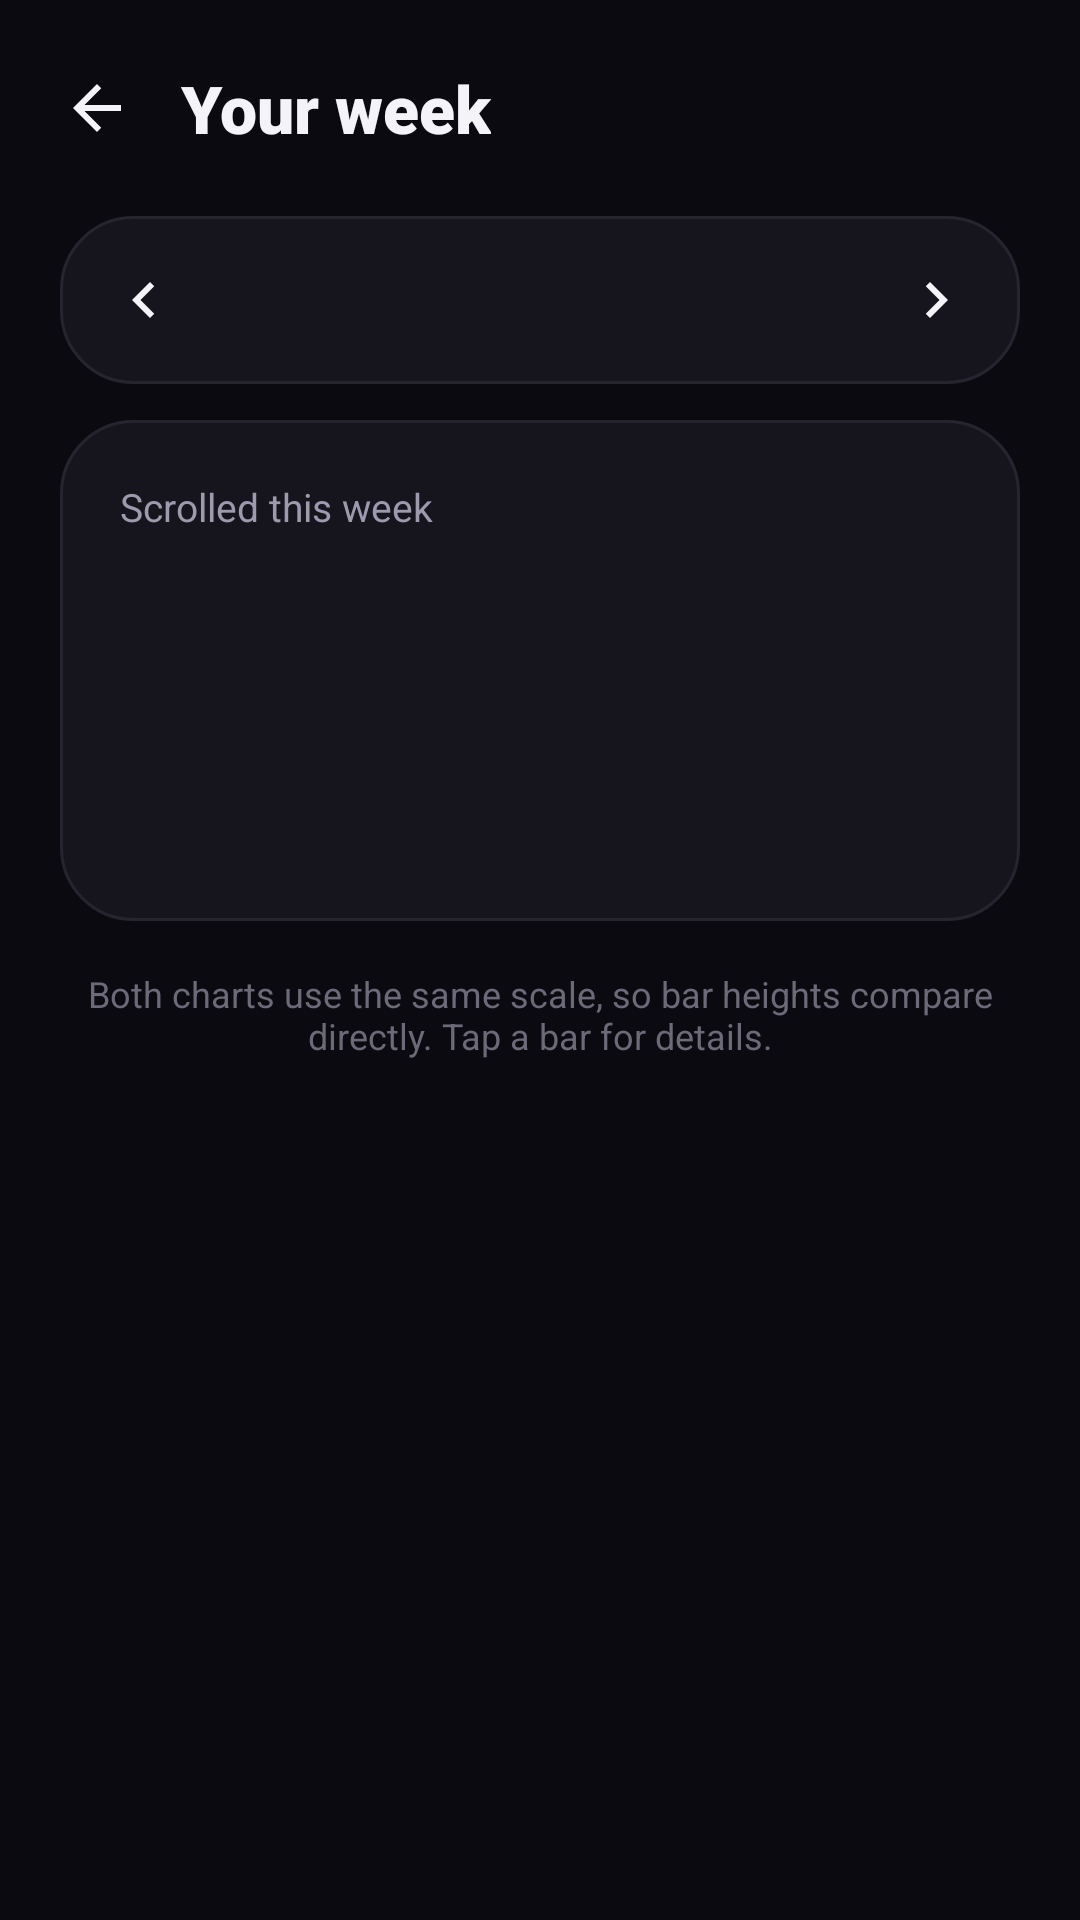

Named icons in this screenshot (1080w x 1920h) and their bounding boxes, (x1, y1, x2, y2):
Next week: (926, 282, 948, 318)
Previous week: (132, 282, 154, 318)
